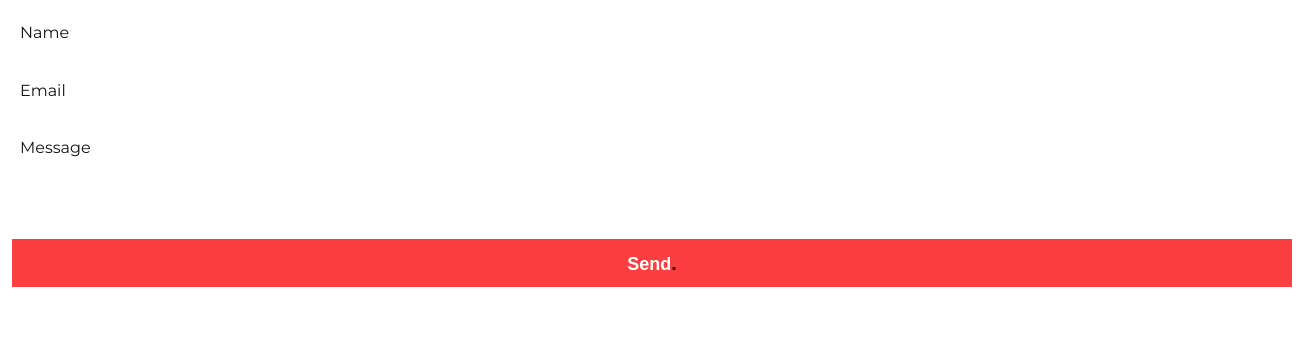
Scenario: Contact Form › should display matching error when email is invalid
In the field with placeholder "Name": (652, 33) [12, 12, 1292, 54], type "name"
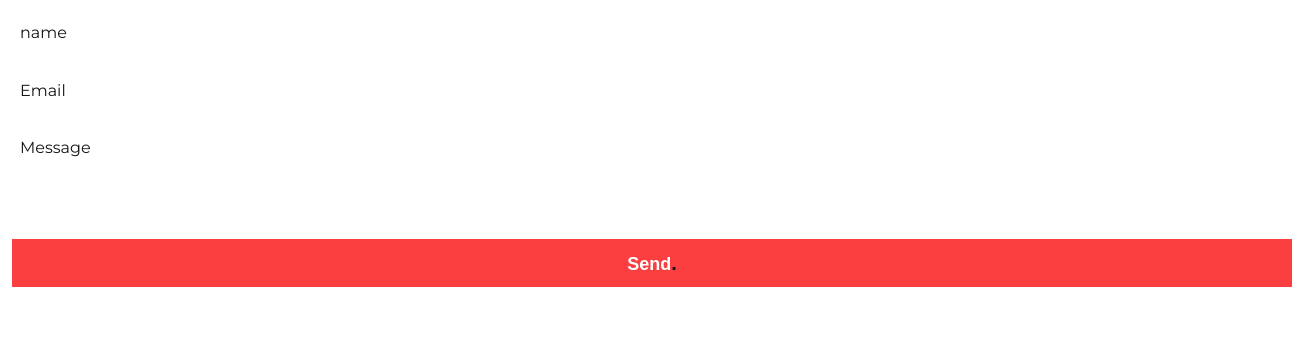
In the field with placeholder "Email": (652, 90) [12, 70, 1292, 111], type "test"
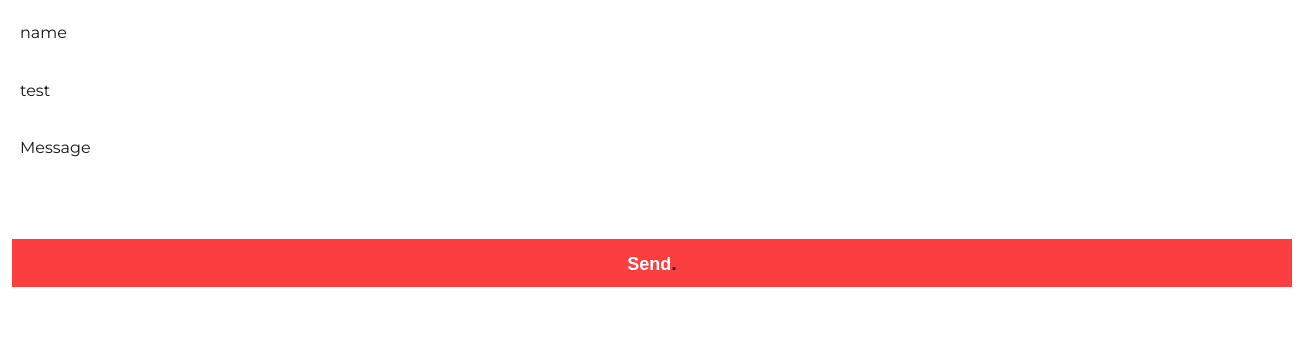
In the text box with placeholder "Message": (652, 175) [12, 127, 1292, 223], type "Somewhere in La Mancha, in a place whose name I do not care to remember…"
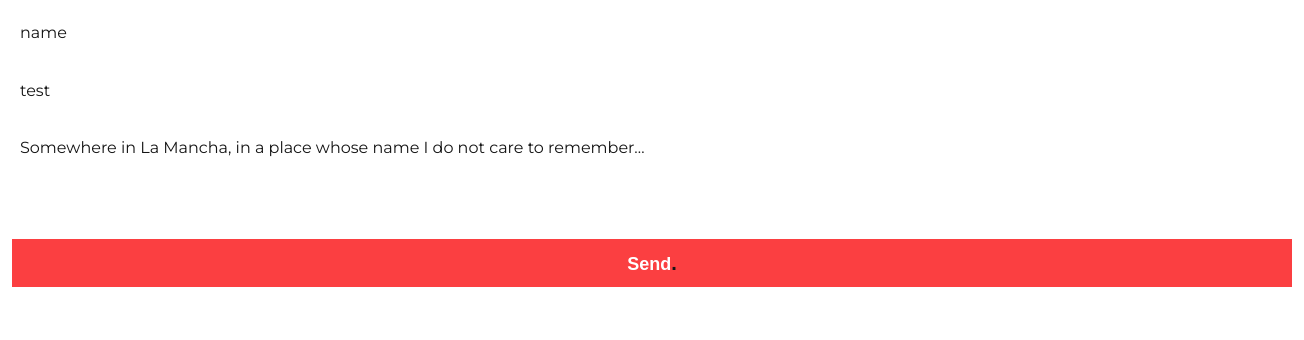
Submit the form from the button, box [12, 239, 1292, 287]
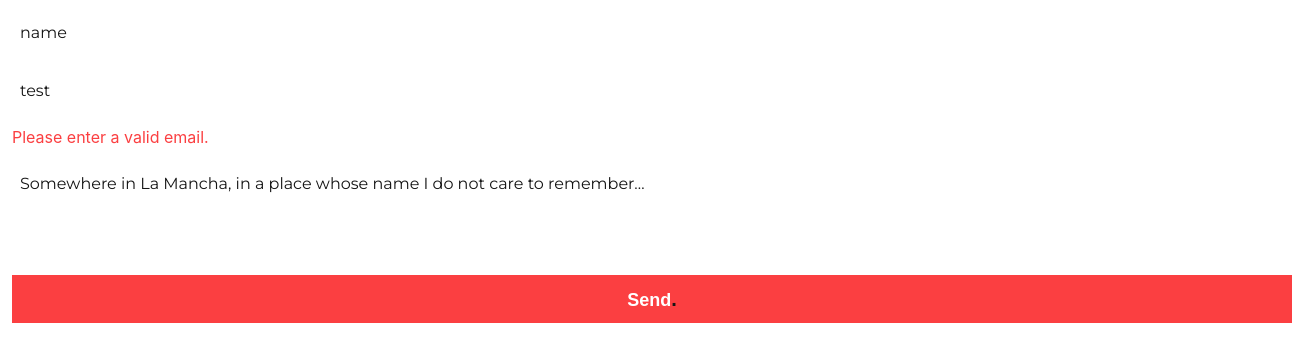
Expected: the number of messages is 1, [12, 127, 209, 147]
